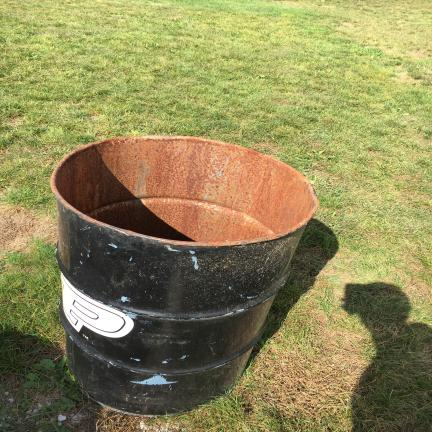besi_tidak_karat: (75, 138, 432, 432), (55, 0, 432, 138), (0, 1, 73, 431)
karat: (53, 136, 315, 247)
